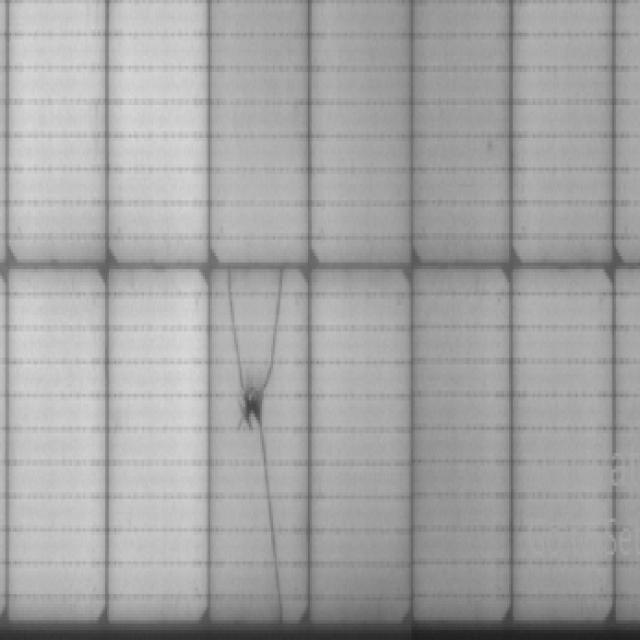CRACK: (214, 264, 298, 612)
